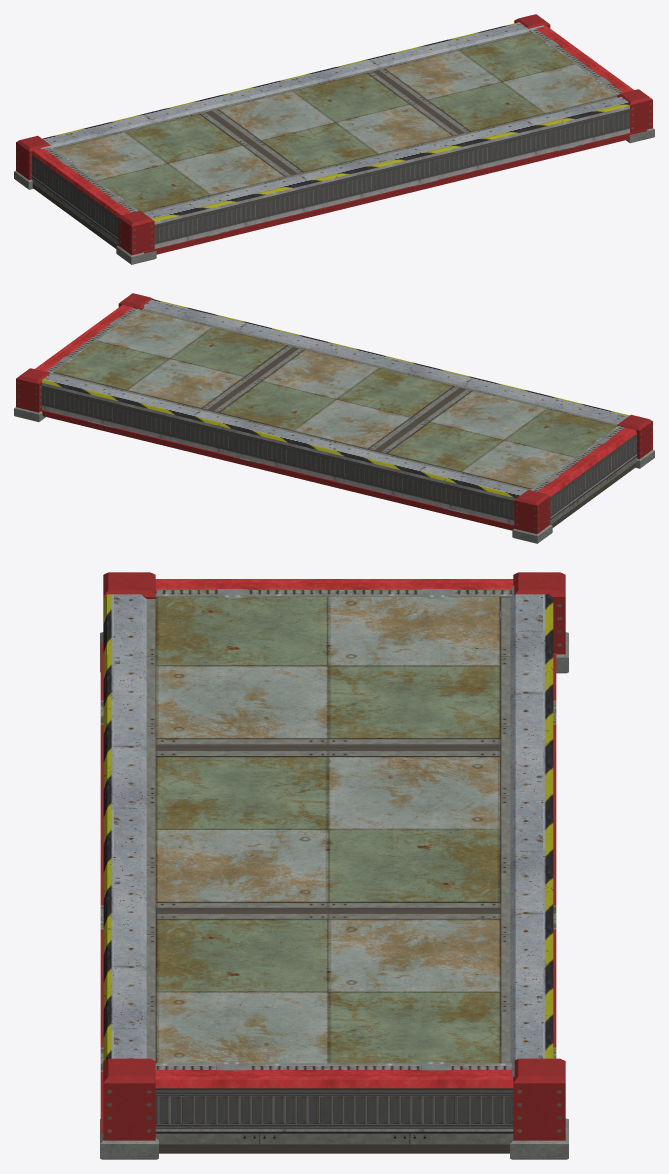
File: Ob_GridPlatformNoBar_RC.fbx
3 views of the same model, one above another, from view 1: azimuth 30°, elevation 25°; view 2: azimuth 150°, elevation 25°; view 3: azimuth 270°, elevation 25° (orthographic). The views are drawn at different scales.
Visible parts, largest first — view 1: Ob_GridPlatformNoBar_RC; view 2: Ob_GridPlatformNoBar_RC; view 3: Ob_GridPlatformNoBar_RC.
Part boxes in pixels (x1,y1,x2,y2): Ob_GridPlatformNoBar_RC: [14, 14, 654, 264]; Ob_GridPlatformNoBar_RC: [14, 293, 654, 543]; Ob_GridPlatformNoBar_RC: [100, 572, 568, 1159].
Bounding box in the file's own units: 3062 × 225 × 1187.
